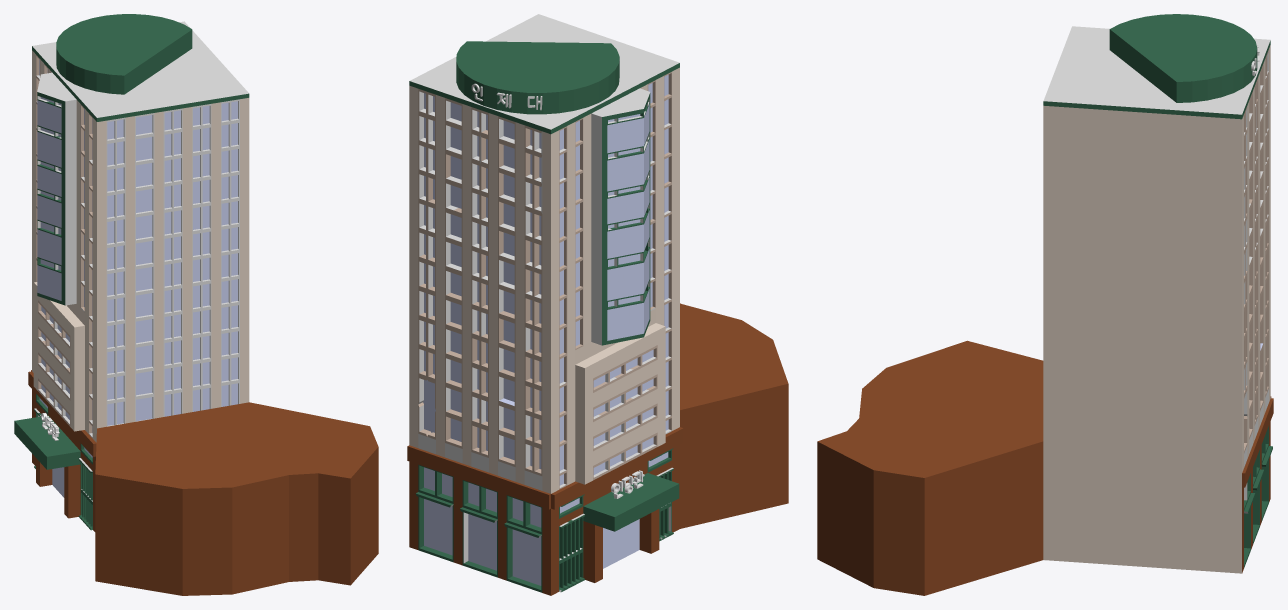
The model's file is BonGwan.fbx.
3 views of the same model, side by side, from view 1: azimuth 30°, elevation 25°; view 2: azimuth 150°, elevation 25°; view 3: azimuth 270°, elevation 25° (orthographic). The views are drawn at different scales.
Visible parts, largest first — view 1: 본관, 실린더; view 2: 본관, 실린더, 텍스트; view 3: 본관, 실린더.
Boxes of the visible parts, x1=… form: 본관: x1=14, y1=21, x2=378, y2=595; 실린더: x1=56, y1=14, x2=192, y2=94; 본관: x1=407, y1=14, x2=788, y2=595; 실린더: x1=456, y1=41, x2=619, y2=114; 텍스트: x1=611, y1=470, x2=644, y2=498; 본관: x1=817, y1=26, x2=1273, y2=595; 실린더: x1=1109, y1=14, x2=1257, y2=102.
Bounding box in the file's own units: 5006 × 8157 × 7033.
